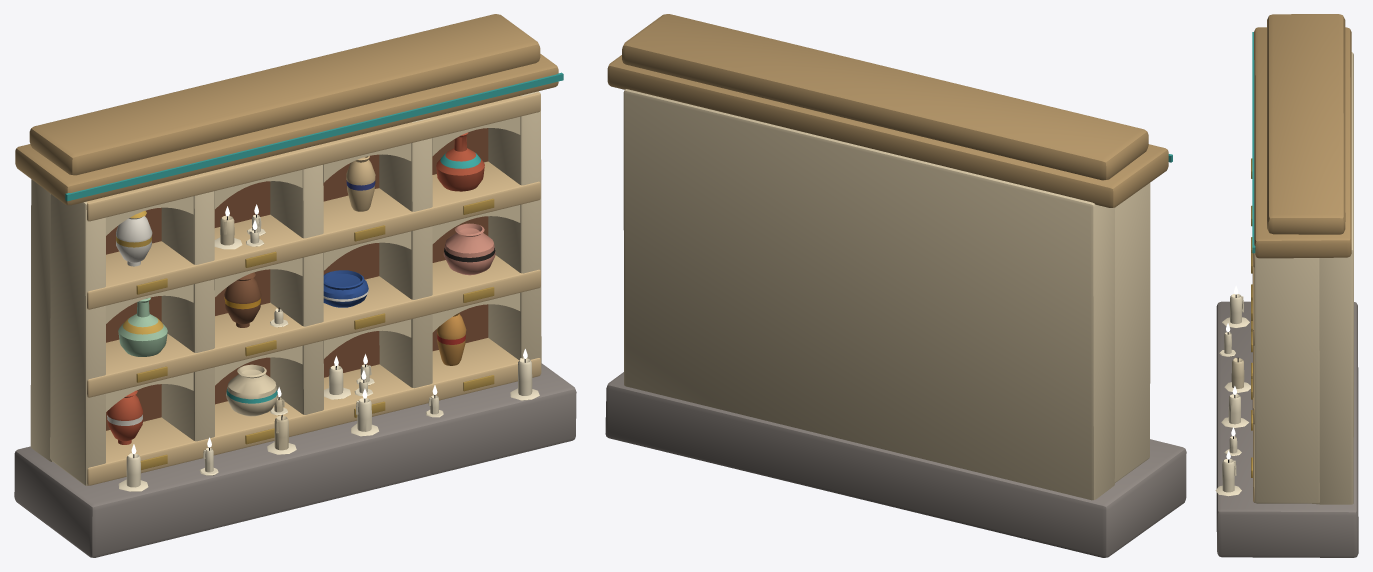
File: deco_urn_niche.fbx
3 views of the same model, side by side, from view 1: azimuth 30°, elevation 25°; view 2: azimuth 150°, elevation 25°; view 3: azimuth 270°, elevation 25° (orthographic). The views are drawn at different scales.
Parts seen in each view (by area): view 1: UrnNiche_Wall, UrnNiche_Urns, UrnNiche_Candles; view 2: UrnNiche_Wall; view 3: UrnNiche_Wall, UrnNiche_Candles.
Boxes of the visible parts, x1,y1,x2,y2 form: UrnNiche_Wall: (14,14,576,557); UrnNiche_Urns: (106,132,495,444); UrnNiche_Candles: (118,204,539,491); UrnNiche_Wall: (605,14,1186,557); UrnNiche_Wall: (1216,14,1358,557); UrnNiche_Candles: (1215,285,1250,496).
Size of the model in its own units: 326 by 239 by 91.4.
